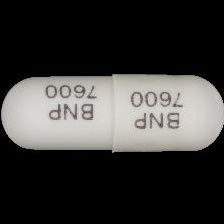54868-4525: (0, 0, 224, 224)
